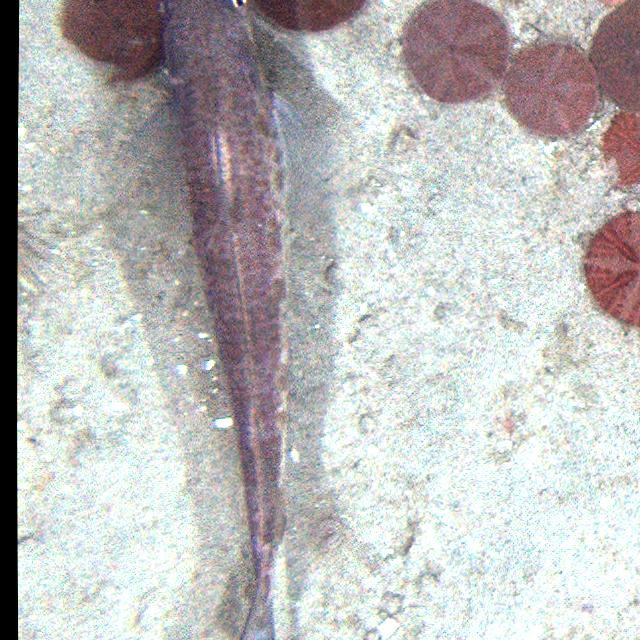roundfish: (160, 0, 303, 639)
